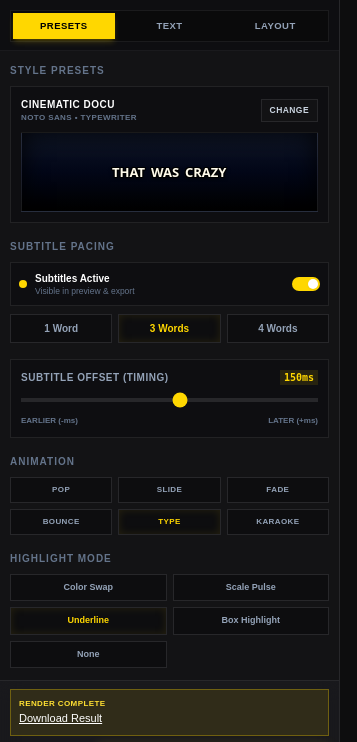
Test: SidebarSettings Component › renders both Top and Bottom speaker zoom controls simultaneously with framing grids
Click Layout tab
Click the button with class "tab-btn" showing "Layout".
click(275, 26)  # box 224,13 -> 326,39
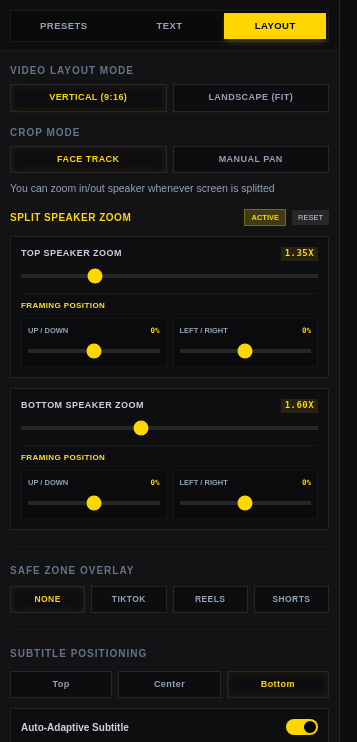
Expected: the text "Top Speaker Zoom" is shown, 21,247 -> 122,261
Expected: the text "1.35x" is shown, 281,247 -> 318,261
Expected: the text "Bottom Speaker Zoom" is shown, 21,399 -> 144,412
